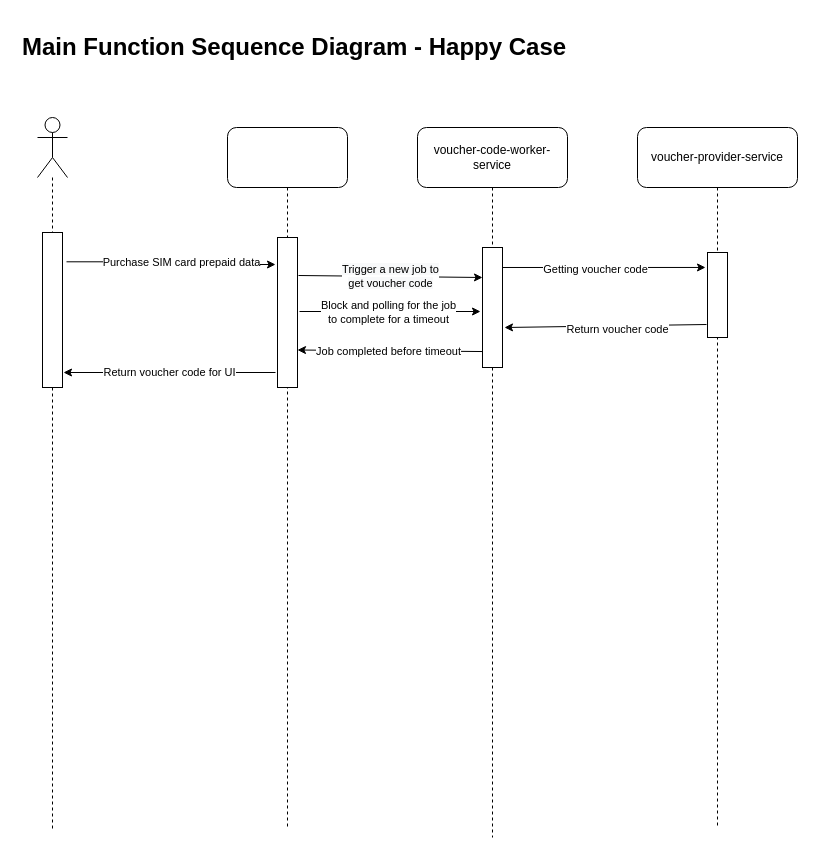
This 815x856 diagram has some shape labels left out. Each missing label, with the box of its shape:
sim-data-service: (226, 126, 348, 188)
User: (36, 116, 68, 178)
